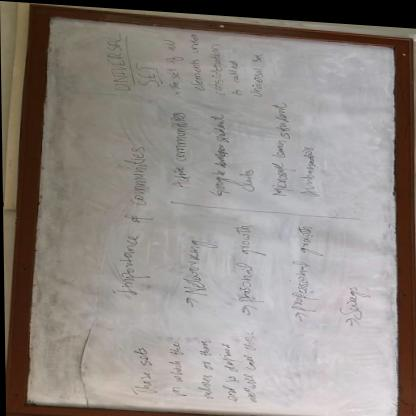Handwritten text: (100, 139, 155, 298), (283, 215, 328, 310), (224, 217, 267, 301), (199, 107, 238, 196), (264, 95, 296, 194), (171, 233, 220, 295), (161, 103, 194, 187), (98, 27, 133, 92), (122, 334, 157, 396), (216, 338, 247, 404), (188, 333, 216, 400), (160, 334, 187, 398), (295, 139, 322, 196), (184, 26, 206, 91), (159, 32, 183, 89), (333, 279, 372, 314), (206, 35, 226, 95), (245, 45, 268, 95), (225, 51, 243, 94), (133, 59, 160, 87), (238, 159, 259, 192)
